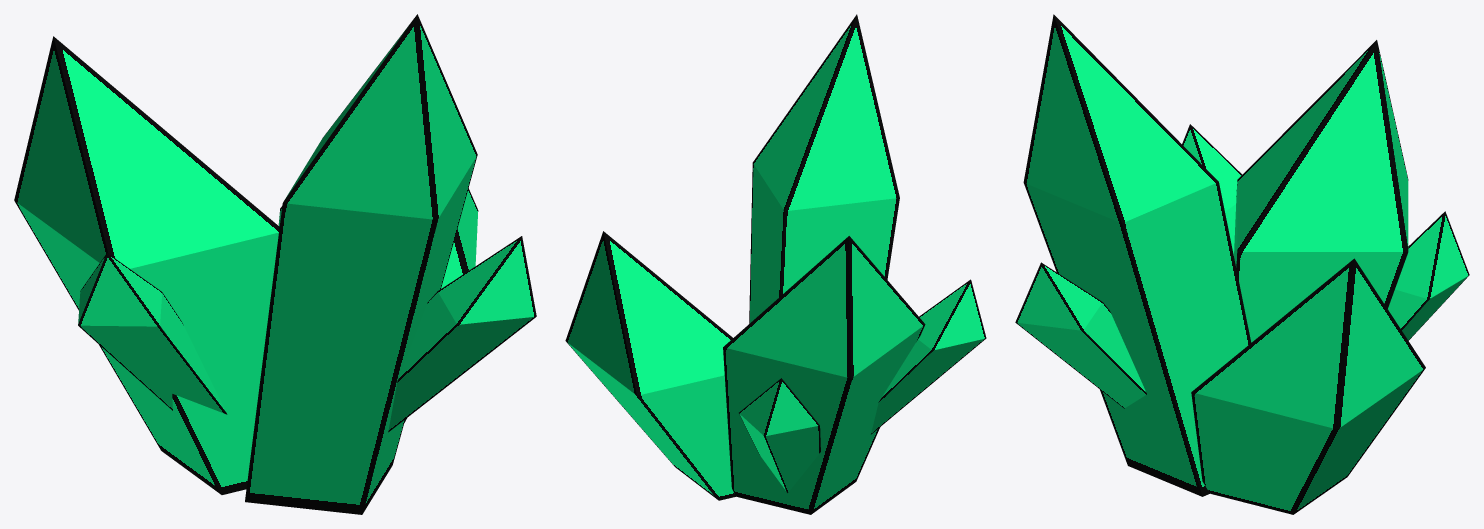
File: crystal_g.obj
3 views of the same model, side by side, from view 1: azimuth 30°, elevation 25°; view 2: azimuth 150°, elevation 25°; view 3: azimuth 270°, elevation 25° (orthographic). The views are drawn at different scales.
Parts seen in each view (by area): view 1: Cube.002_Cube.003_None.002, Cube_Cube.001_None.002, Cube.003_Cube.004_None.002, Cube.005_Cube.006_None.002, Cube.001_Cube.002_None.002; view 2: Cube_Cube.001_None.002, Cube.002_Cube.003_None.002, Cube.001_Cube.002_None.002, Cube.005_Cube.006_None.002, Cube.004_Cube.005_None.002; view 3: Cube.002_Cube.003_None.002, Cube.001_Cube.002_None.002, Cube_Cube.001_None.002, Cube.003_Cube.004_None.002, Cube.004_Cube.005_None.002, Cube.005_Cube.006_None.002.
Boxes of the visible parts, box(x1,y1,x2,y2) form: Cube.002_Cube.003_None.002: box(245, 14, 477, 514); Cube_Cube.001_None.002: box(14, 36, 279, 494); Cube.003_Cube.004_None.002: box(388, 236, 536, 432); Cube.005_Cube.006_None.002: box(78, 253, 227, 414); Cube.001_Cube.002_None.002: box(278, 188, 478, 422); Cube_Cube.001_None.002: box(723, 236, 925, 514); Cube.002_Cube.003_None.002: box(749, 14, 899, 323); Cube.001_Cube.002_None.002: box(565, 231, 735, 500); Cube.005_Cube.006_None.002: box(871, 279, 986, 434); Cube.004_Cube.005_None.002: box(739, 378, 820, 492); Cube.002_Cube.003_None.002: box(1023, 14, 1251, 496); Cube.001_Cube.002_None.002: box(1191, 258, 1425, 514); Cube_Cube.001_None.002: box(1234, 40, 1408, 342); Cube.003_Cube.004_None.002: box(1015, 262, 1146, 408); Cube.004_Cube.005_None.002: box(1388, 211, 1469, 340); Cube.005_Cube.006_None.002: box(1182, 124, 1242, 255).
Bounding box in the file's own units: 0.9168 × 0.9633 × 0.868.
